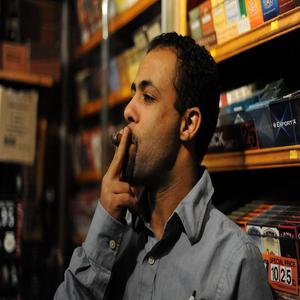cigarette: (110, 130, 126, 145)
